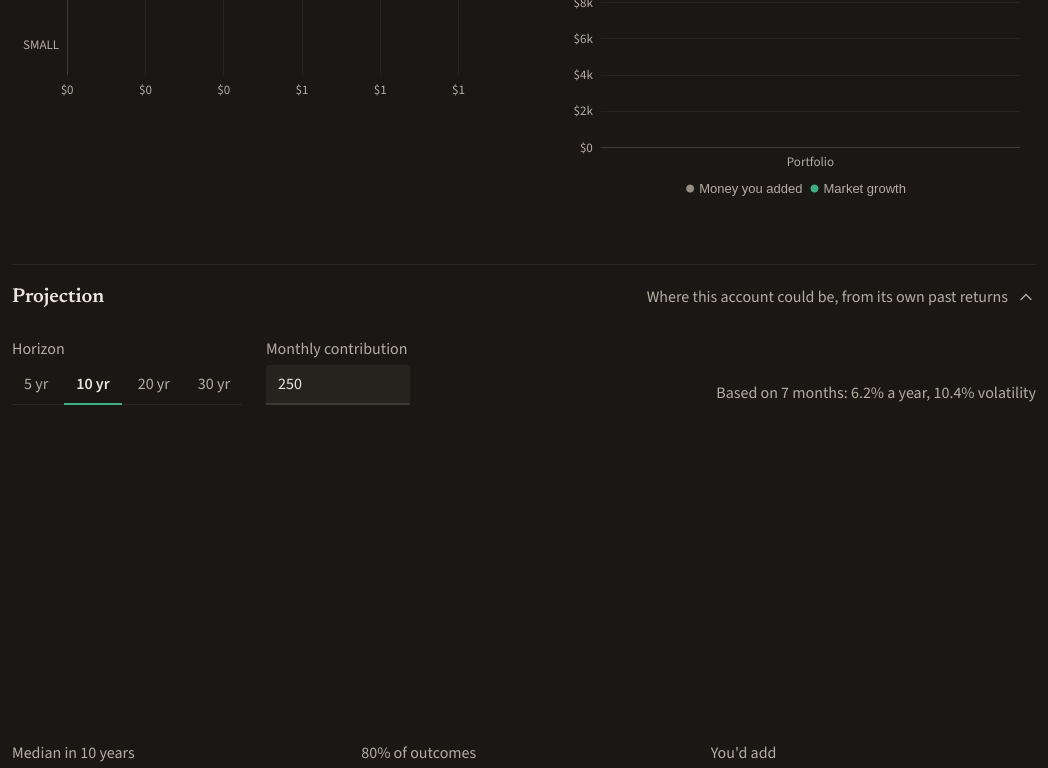
Test: InvestmentsView layout › loads the projection only when it is opened
(page scrolled)
Expected: the text "Median in 10 years" is shown, x1=12 y1=742 x2=135 y2=762
Expected: the number field labelled "Monthly contribution" holds "250", x1=266 y1=364 x2=410 y2=404
What coordinates should you click on to do the following:
click the radio button labelled "20 yr"
I would click on:
 (154, 384)
Its box is x1=126 y1=364 x2=182 y2=404.
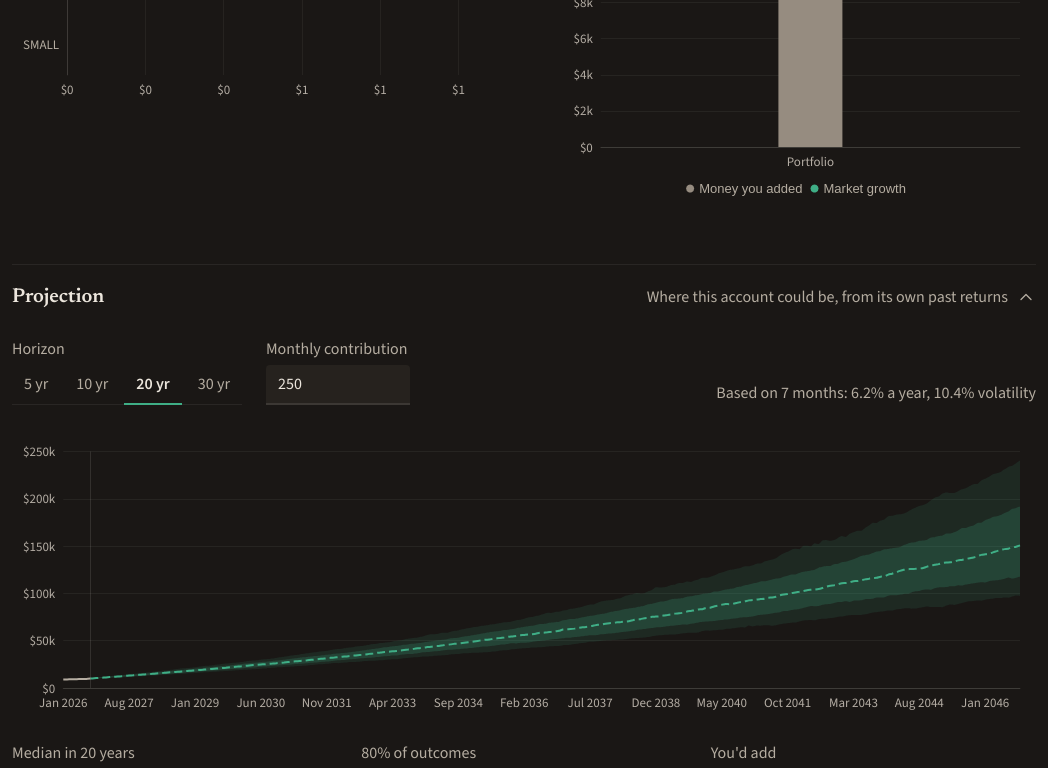
Result: the text "Median in 20 years" is shown at x1=12 y1=742 x2=135 y2=762
